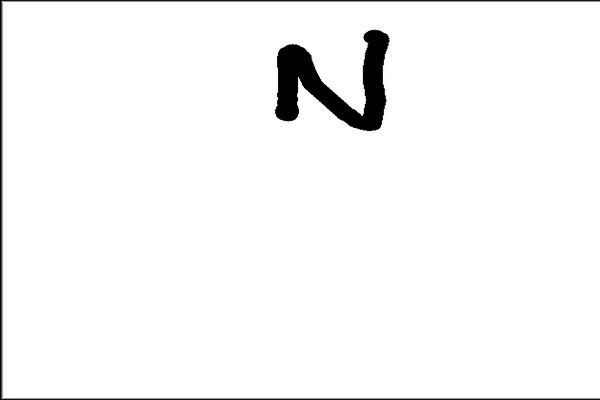N: (265, 23, 394, 137)
